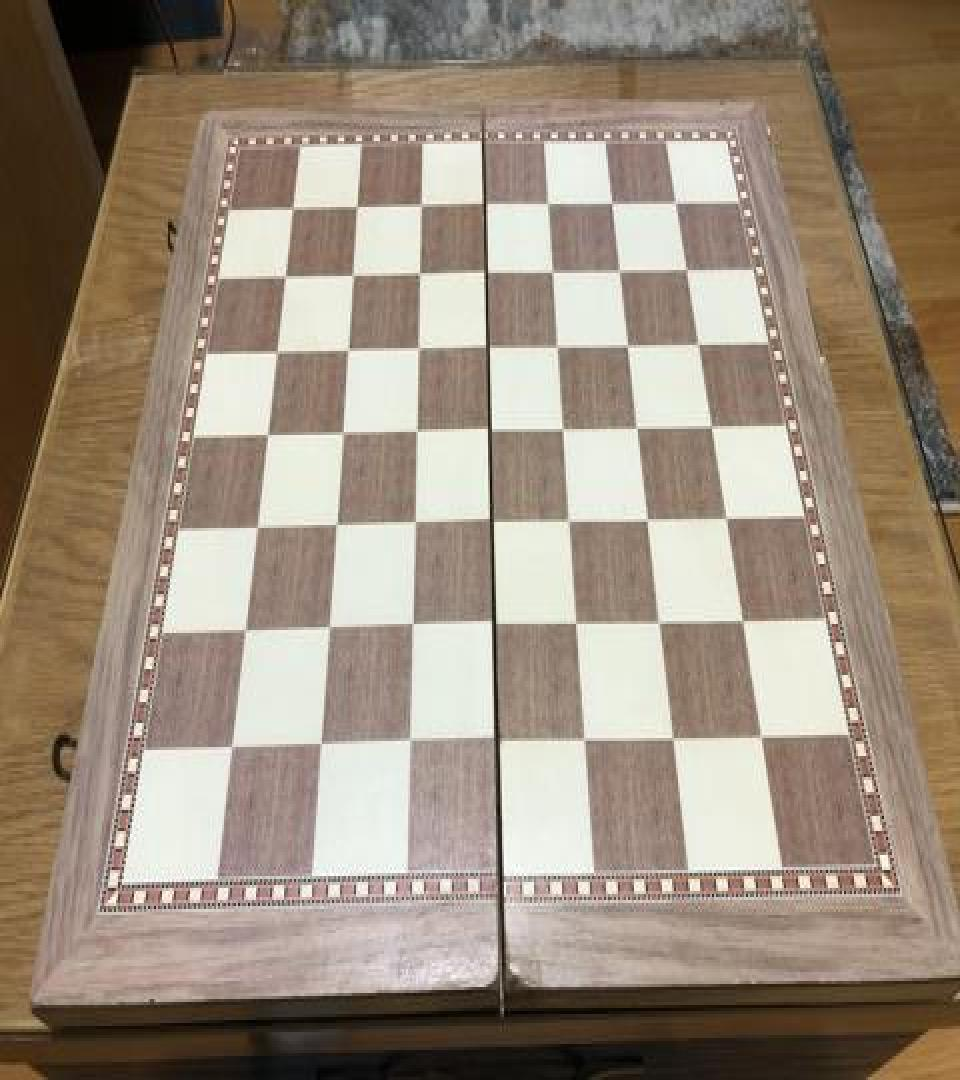xcorner: (733, 601, 757, 638), (403, 610, 427, 647), (400, 727, 424, 764), (222, 733, 246, 770), (666, 183, 690, 219), (603, 184, 627, 220), (539, 184, 563, 220), (476, 186, 500, 222), (348, 189, 372, 225), (284, 190, 308, 226), (677, 250, 701, 286), (611, 252, 635, 288), (544, 254, 568, 290), (477, 254, 501, 290), (410, 255, 434, 291), (343, 256, 367, 292), (276, 258, 300, 294), (689, 324, 713, 360), (619, 326, 643, 362), (549, 327, 573, 363), (409, 330, 433, 366), (338, 332, 362, 368), (267, 333, 291, 369), (702, 406, 726, 442), (629, 410, 653, 446), (555, 411, 579, 447), (407, 414, 431, 450), (333, 416, 357, 452), (258, 417, 282, 453), (717, 500, 741, 536), (639, 501, 663, 537), (561, 502, 585, 538), (483, 504, 507, 540), (405, 507, 429, 543), (326, 508, 350, 544), (247, 510, 271, 546), (651, 604, 675, 640), (568, 606, 592, 642), (486, 609, 510, 645), (319, 612, 343, 648), (236, 615, 260, 651), (752, 717, 776, 753), (664, 720, 688, 756), (576, 723, 600, 759), (488, 724, 512, 760), (311, 730, 335, 766), (412, 188, 436, 223), (479, 329, 503, 364), (481, 413, 505, 448)
